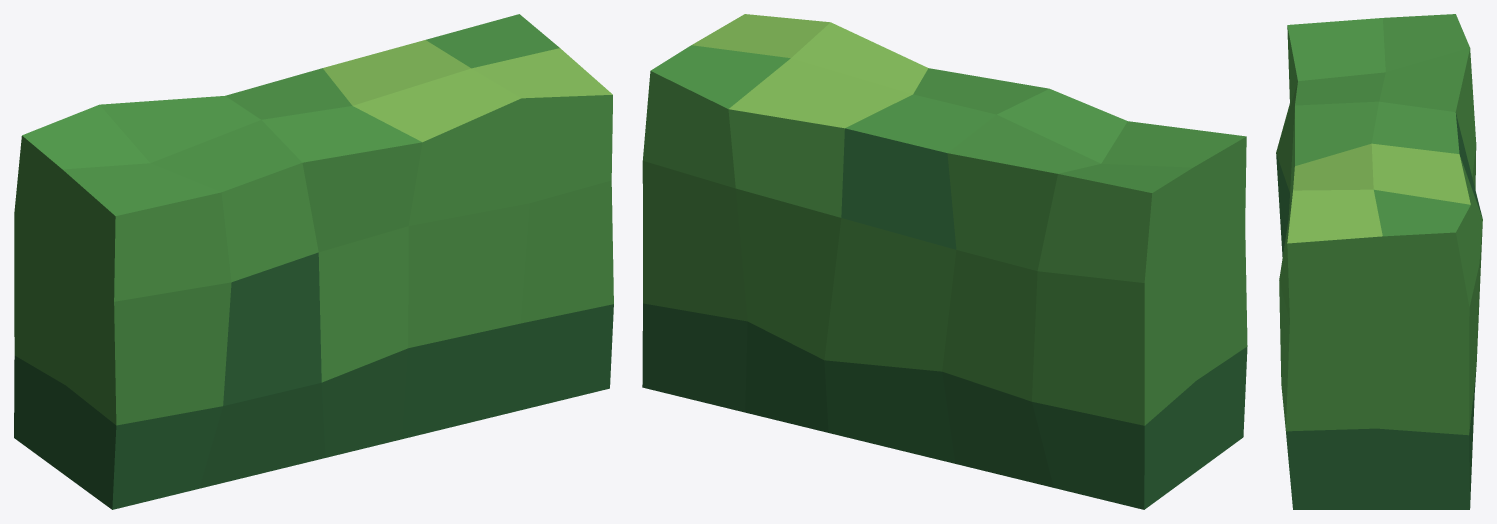
File: hedge.glb
3 views of the same model, side by side, from view 1: azimuth 30°, elevation 25°; view 2: azimuth 150°, elevation 25°; view 3: azimuth 270°, elevation 25° (orthographic). The views are drawn at different scales.
Visible parts, largest first — view 1: hedge__mesh; view 2: hedge__mesh; view 3: hedge__mesh.
Boxes of the visible parts, x1,y1,x2,y2 form: hedge__mesh: (14, 14, 613, 509); hedge__mesh: (642, 14, 1247, 509); hedge__mesh: (1276, 14, 1482, 509).
Bounding box in the file's own units: 2 × 1.2 × 0.8.
1 material, 1 textured.
